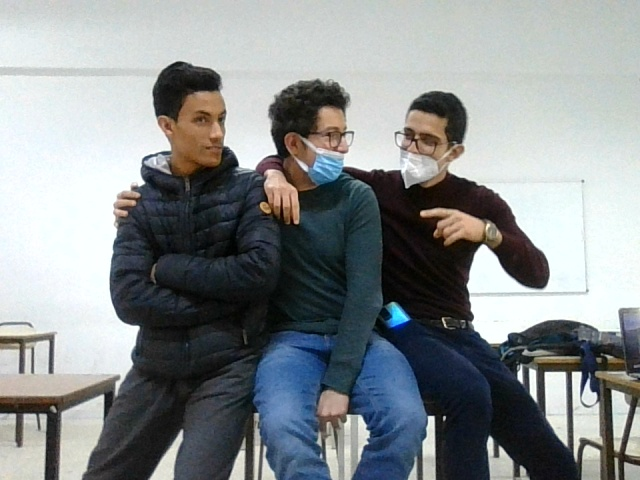mask_weared_incorrect: (264, 90, 360, 198), (395, 87, 477, 195)
without_mask: (143, 58, 233, 172)
